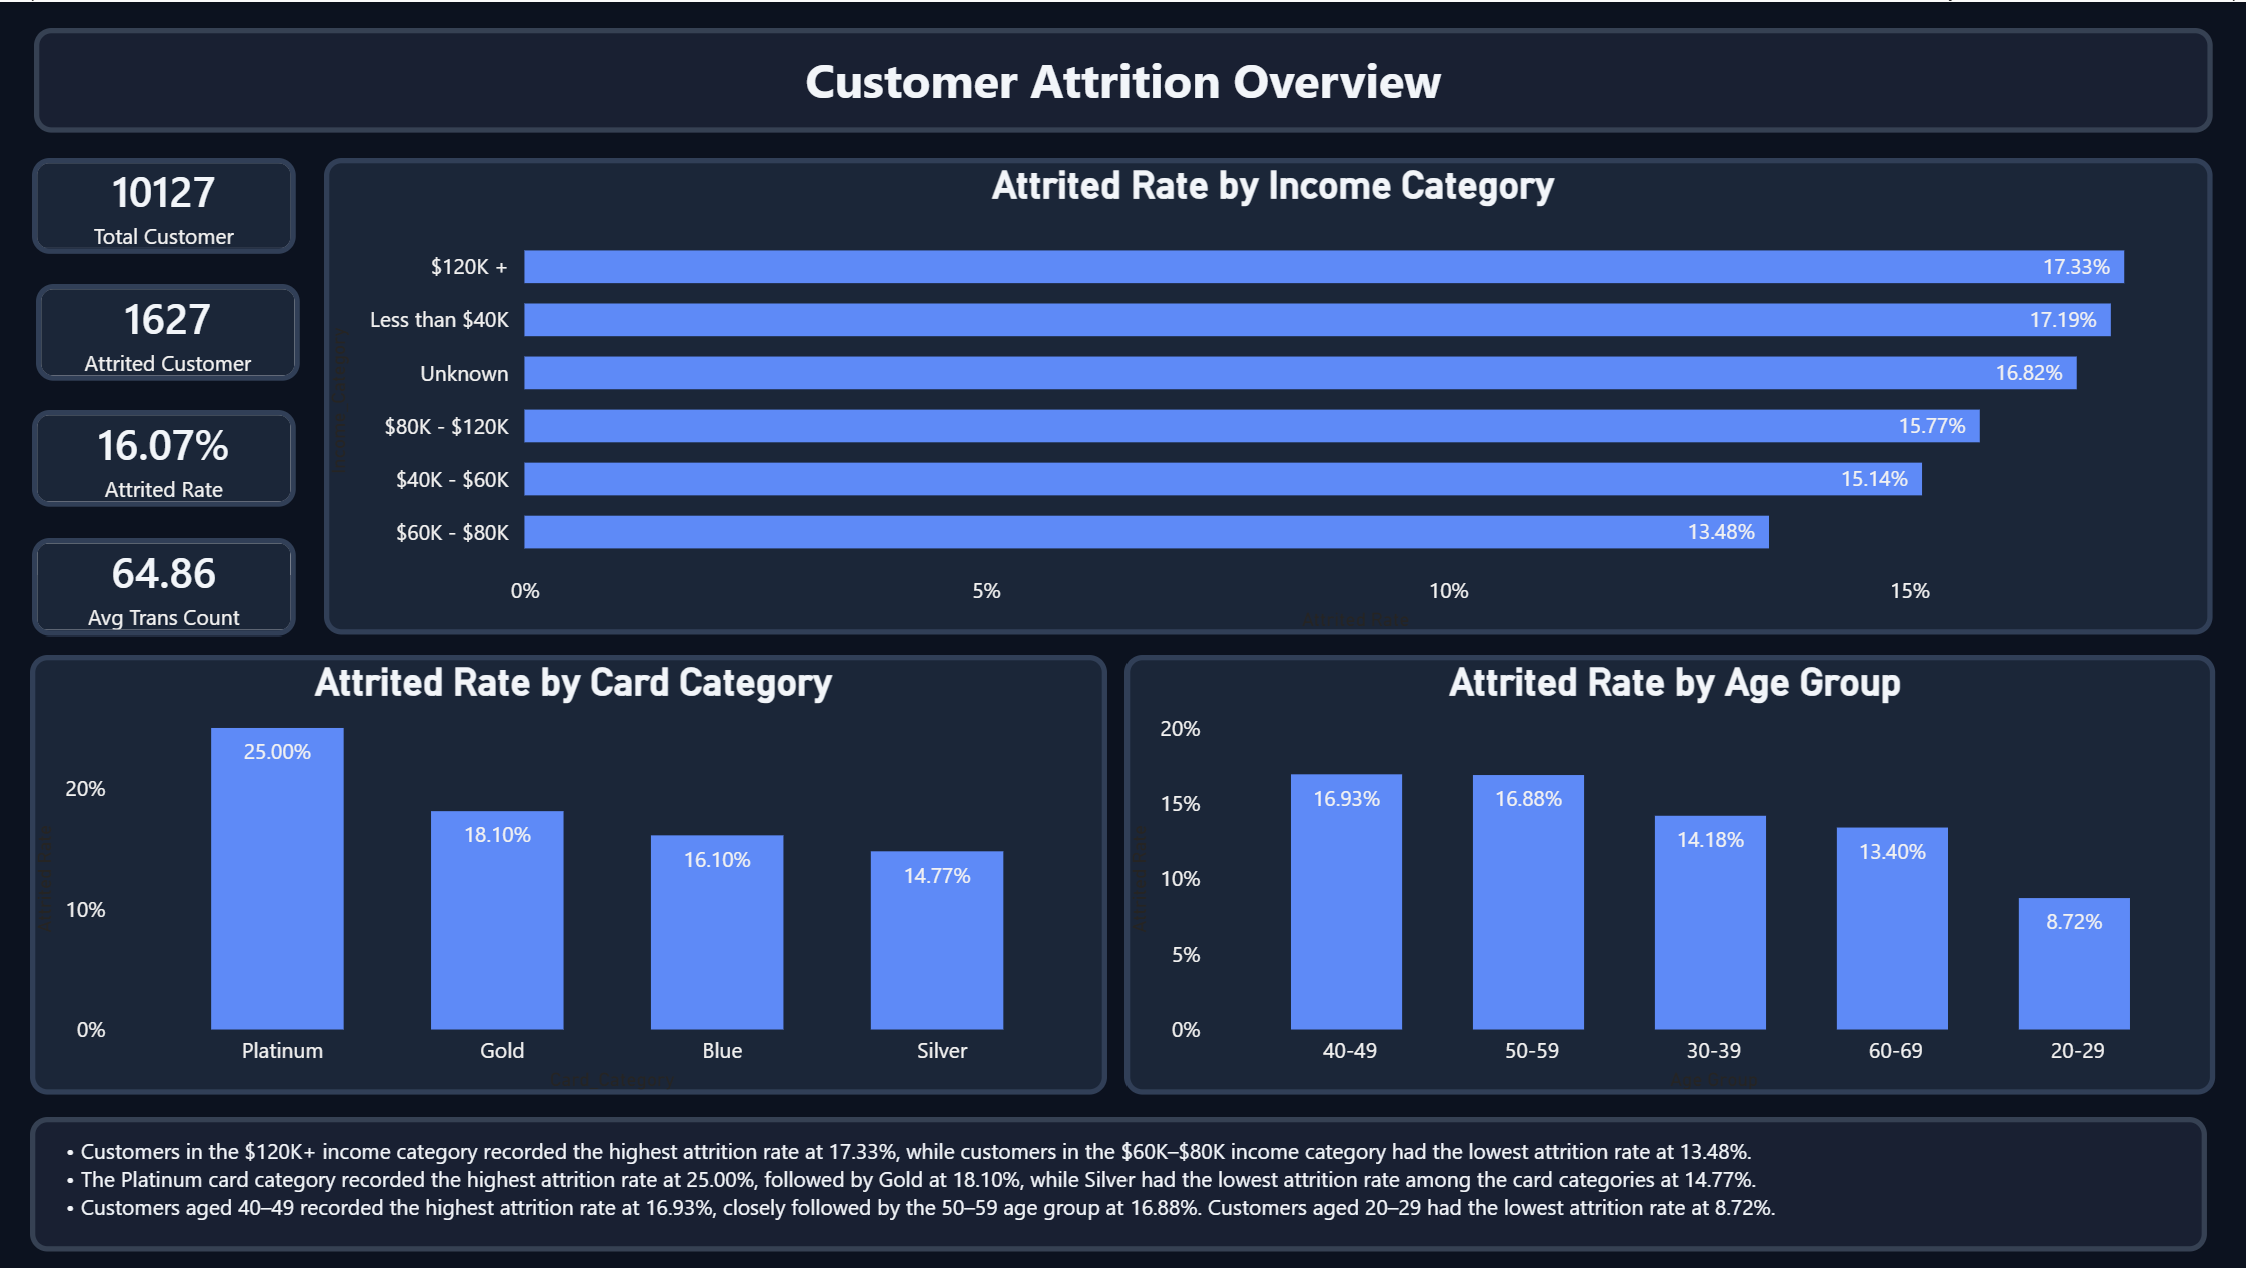

The page's visual inventory and layout, read from the dashboard file:
{"tool":"powerbi","page":{"name":"Executive Attrition Overview","canvas":[1280,720],"ordinal":0},"visuals":[{"type":"textbox","box":[20.7,15.3,1238.7,59.7],"z":0},{"type":"cardVisual","fields":{"Data":["BankChurners.Total Customer"]},"box":[18.9,88.9,150,54.4],"z":1000},{"type":"cardVisual","fields":{"Data":["BankChurners.Attrited Customer"]},"box":[21.1,160.4,150,55],"z":2000},{"type":"cardVisual","fields":{"Data":["BankChurners.Attrited Rate"]},"box":[18.9,232.4,150,55],"z":3000},{"type":"cardVisual","fields":{"Data":["BankChurners.Avg Trans Count"]},"box":[18.9,304.4,150,55.6],"z":4000},{"type":"clusteredBarChart","title":"Attrited Rate by Income Category","fields":{"Category":["BankChurners.Income_Category"],"Y":["BankChurners.Attrited Rate"]},"box":[185.6,88.9,1073.3,271.1],"z":5000},{"type":"clusteredColumnChart","title":"Attrited Rate by Card Category","fields":{"Y":["BankChurners.Attrited Rate"],"Category":["BankChurners.Card_Category"]},"box":[18.8,371.2,612.5,250],"z":6000},{"type":"clusteredColumnChart","title":"Attrited Rate by Age Group","fields":{"Y":["BankChurners.Attrited Rate"],"Category":["BankChurners.Age Group"]},"box":[640,371.2,620,250],"z":7000},{"type":"textbox","box":[18.8,633.8,1237.5,76.2],"z":8000}]}

Visuals, with their boxes in screenshot pixels (x1, y1, x2, y2), scaled from the page's 1280x720 canvas onto the 2246x1268 screenshot:
textbox: {"x1": 36, "y1": 27, "x2": 2210, "y2": 132}
cardVisual - BankChurners.Total Customer: {"x1": 33, "y1": 157, "x2": 296, "y2": 252}
cardVisual - BankChurners.Attrited Customer: {"x1": 37, "y1": 282, "x2": 300, "y2": 379}
cardVisual - BankChurners.Attrited Rate: {"x1": 33, "y1": 409, "x2": 296, "y2": 506}
cardVisual - BankChurners.Avg Trans Count: {"x1": 33, "y1": 536, "x2": 296, "y2": 634}
"Attrited Rate by Income Category" clusteredBarChart: {"x1": 326, "y1": 157, "x2": 2209, "y2": 634}
"Attrited Rate by Card Category" clusteredColumnChart: {"x1": 33, "y1": 654, "x2": 1108, "y2": 1094}
"Attrited Rate by Age Group" clusteredColumnChart: {"x1": 1123, "y1": 654, "x2": 2211, "y2": 1094}
textbox: {"x1": 33, "y1": 1116, "x2": 2204, "y2": 1250}
